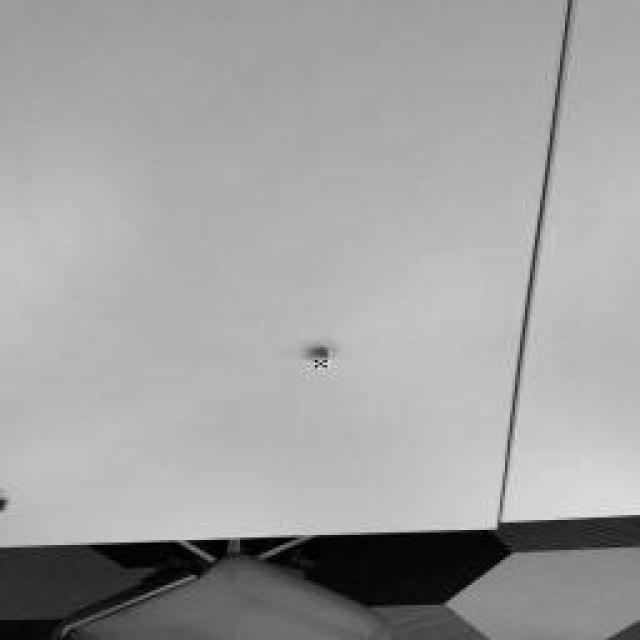dice_5: (312, 360, 330, 370)
